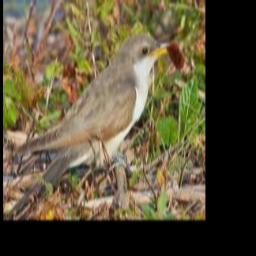Cuckoo: (6, 34, 171, 220)
